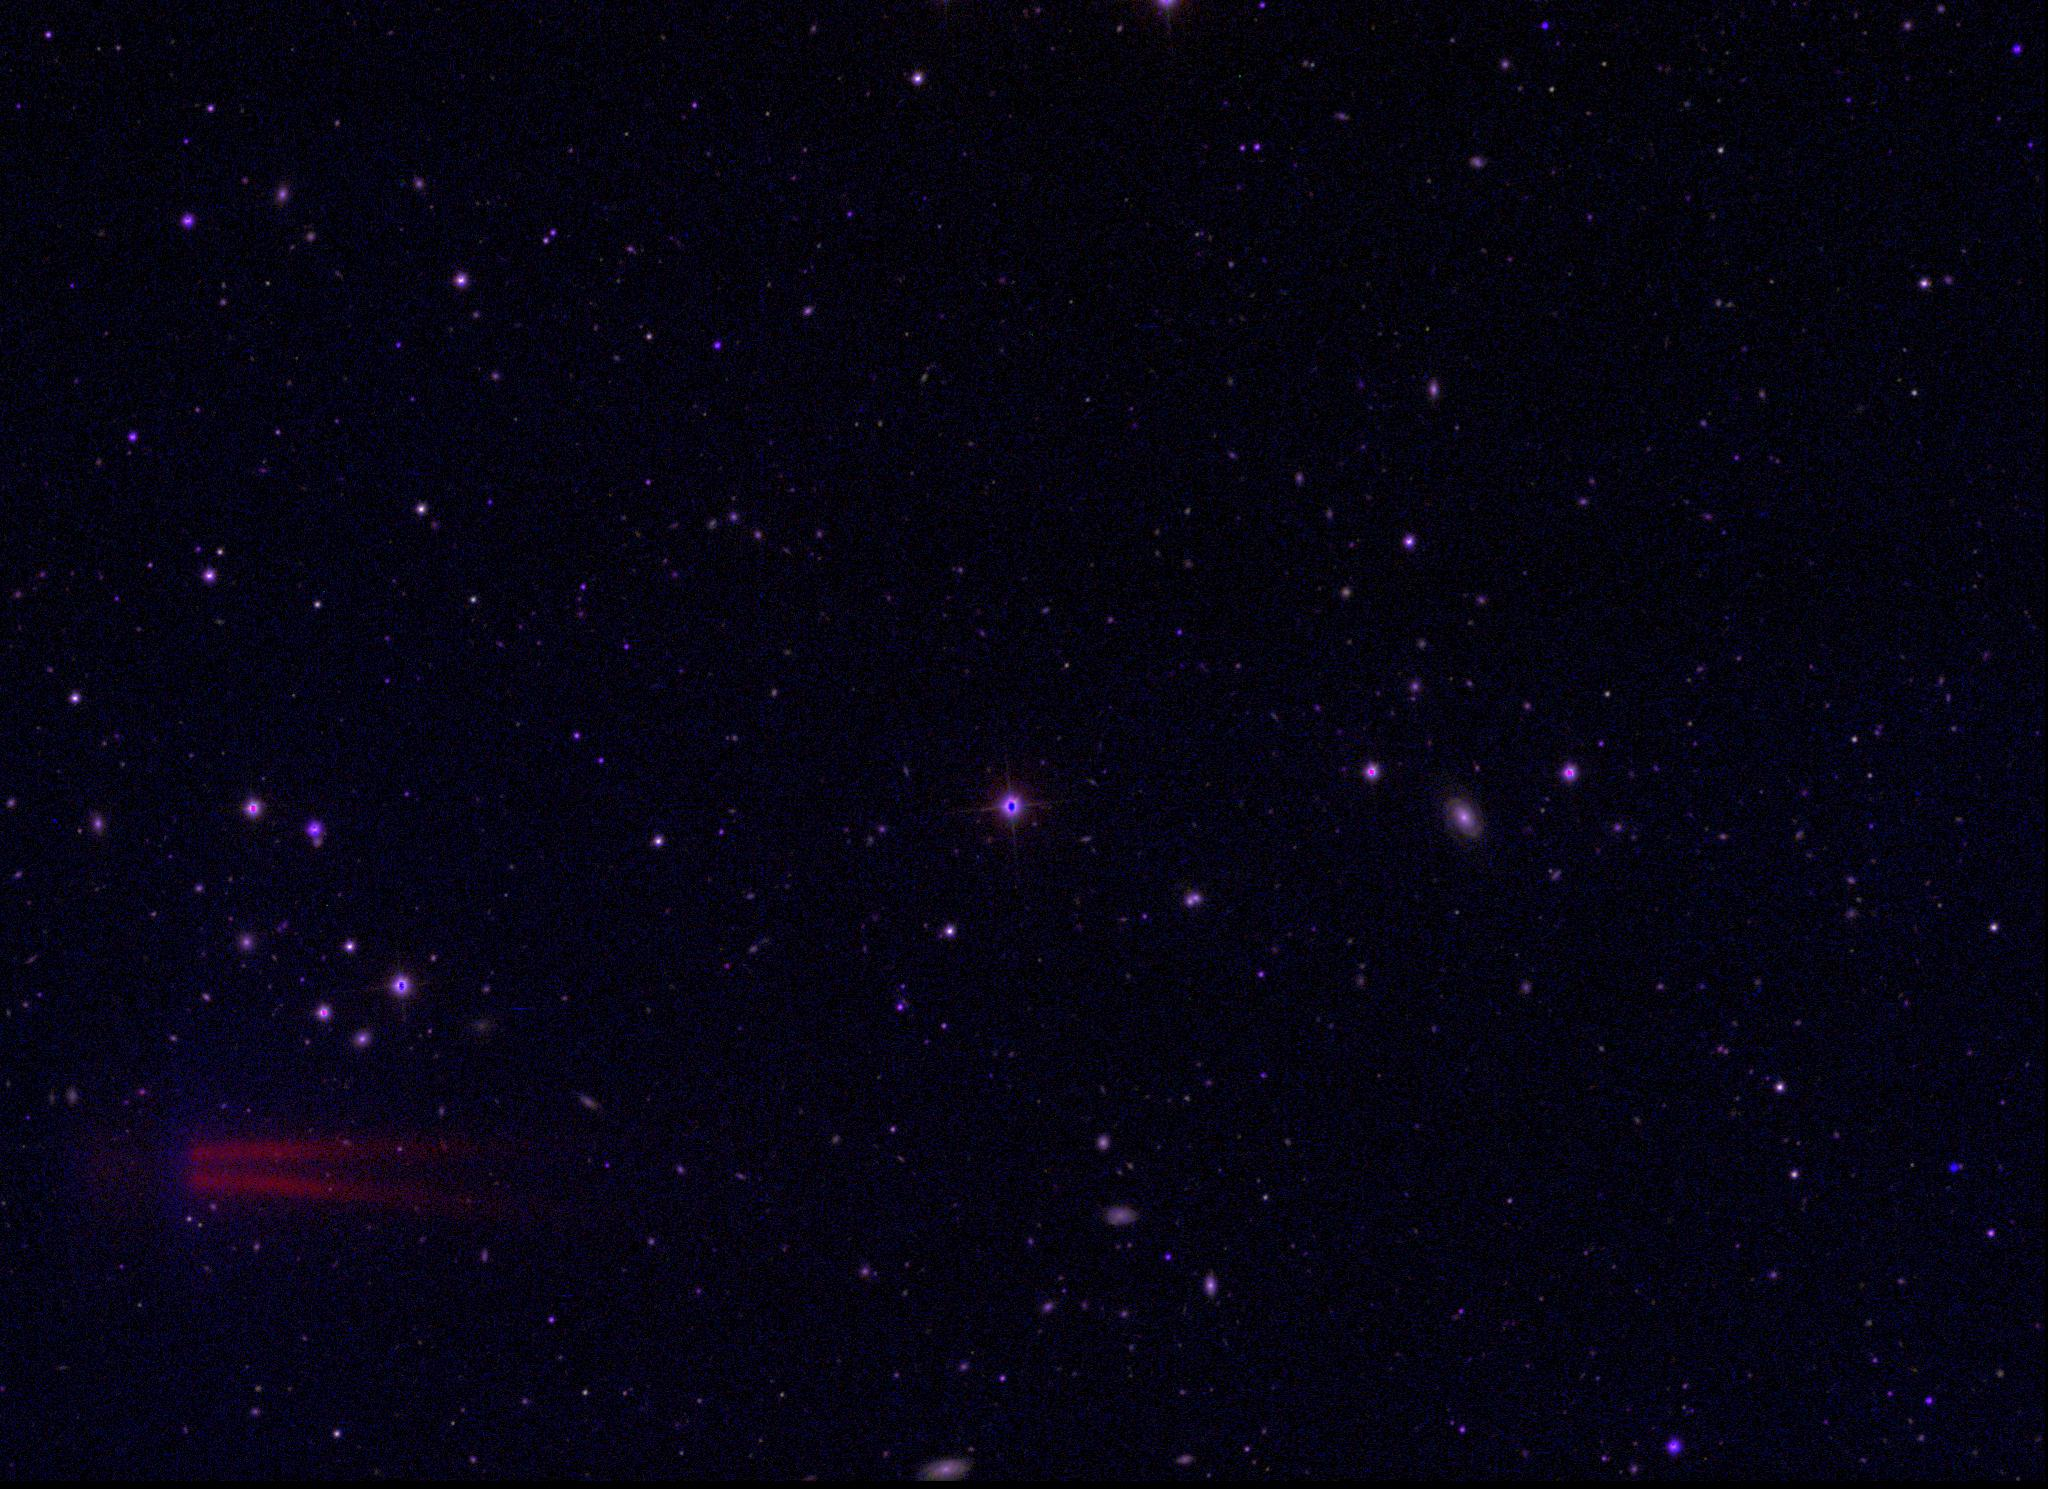L: (1946, 1161, 1961, 1176)
